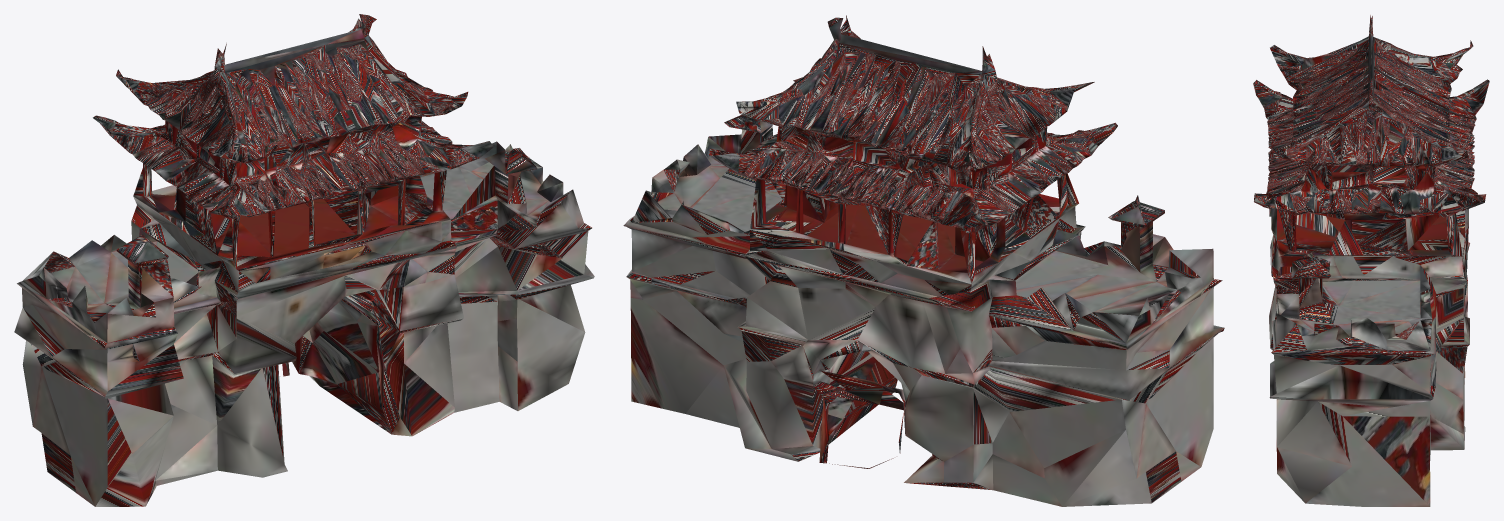
Rendered from city_gate.far.glb.
The picture shows the model from 3 angles, left to right: view 1: azimuth 30°, elevation 25°; view 2: azimuth 150°, elevation 25°; view 3: azimuth 270°, elevation 25°; orthographic projection. The views are drawn at different scales.
Size of the model in its own units: 1.89 by 1.46 by 0.8736.
1 material, 1 textured.
